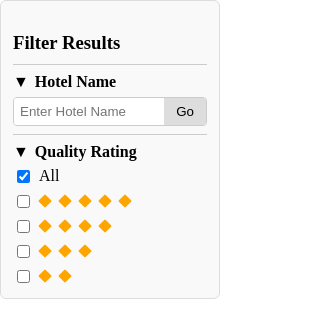
Scenario: FilterPanel Component › should toggle collapsible sections
The width and height of the screenshot is (320, 316).
Click the text "Hotel Name": x=75, y=82 x1=35 y1=73 x2=116 y2=91
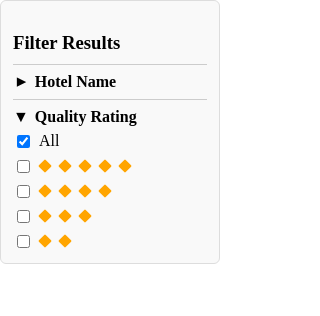
Expected: the field with placeholder "Enter Hotel Name" is not shown
Click the text "Hotel Name": x=75, y=82 x1=35 y1=73 x2=116 y2=91
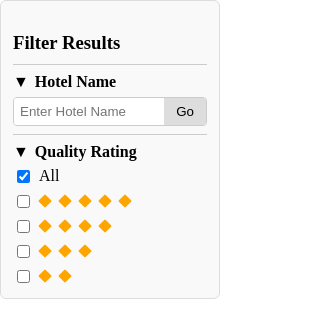
Now the field with placeholder "Enter Hotel Name" is shown, box x1=14 y1=98 x2=164 y2=125
Click the text "Quality Rating": x=86, y=152 x1=35 y1=143 x2=137 y2=161
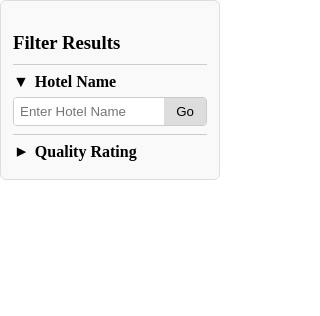
Now the label labelled "All" is gone
Click the text "Quality Rating": x=86, y=152 x1=35 y1=143 x2=137 y2=161
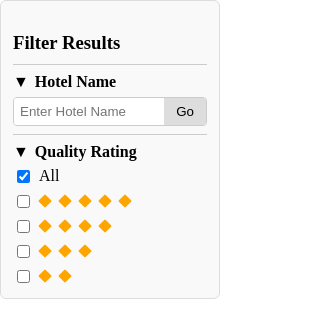
Now the checkbox labelled "All" is shown, box x1=17 y1=170 x2=30 y2=183
